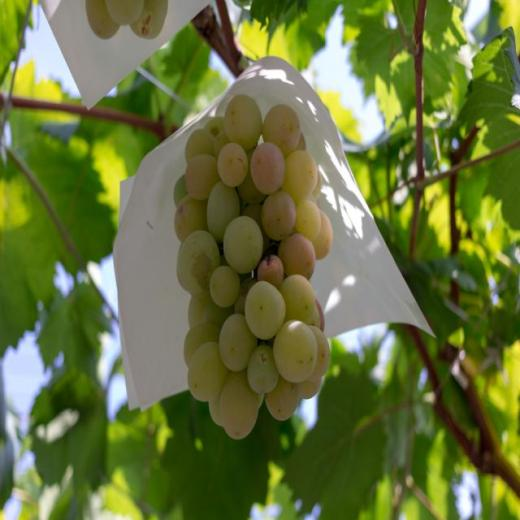Orange: (176, 93, 330, 438), (131, 0, 169, 40), (86, 0, 122, 40), (107, 0, 140, 28)
